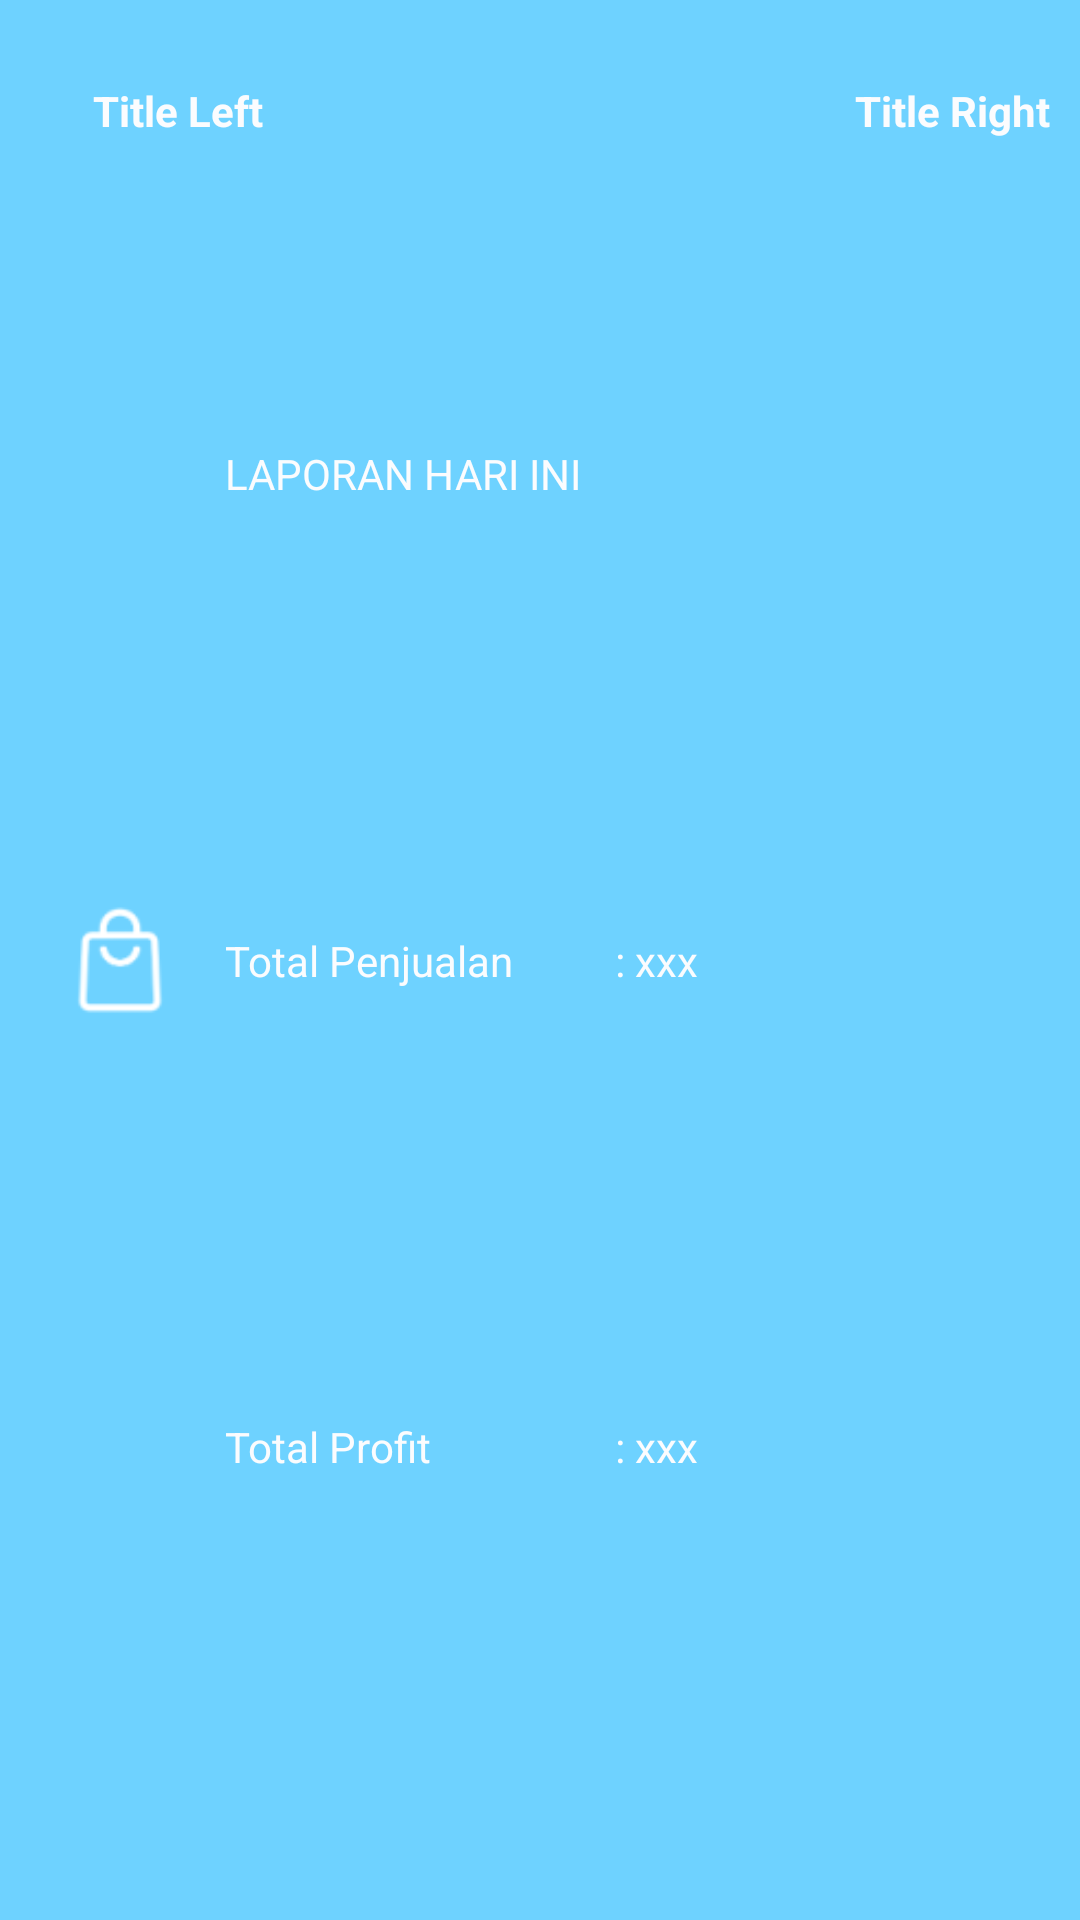

Screen size 1080x1920. Icon name, then its box in pixels as region(x1, y1, x2, y2):
bag: region(78, 908, 162, 1013)
